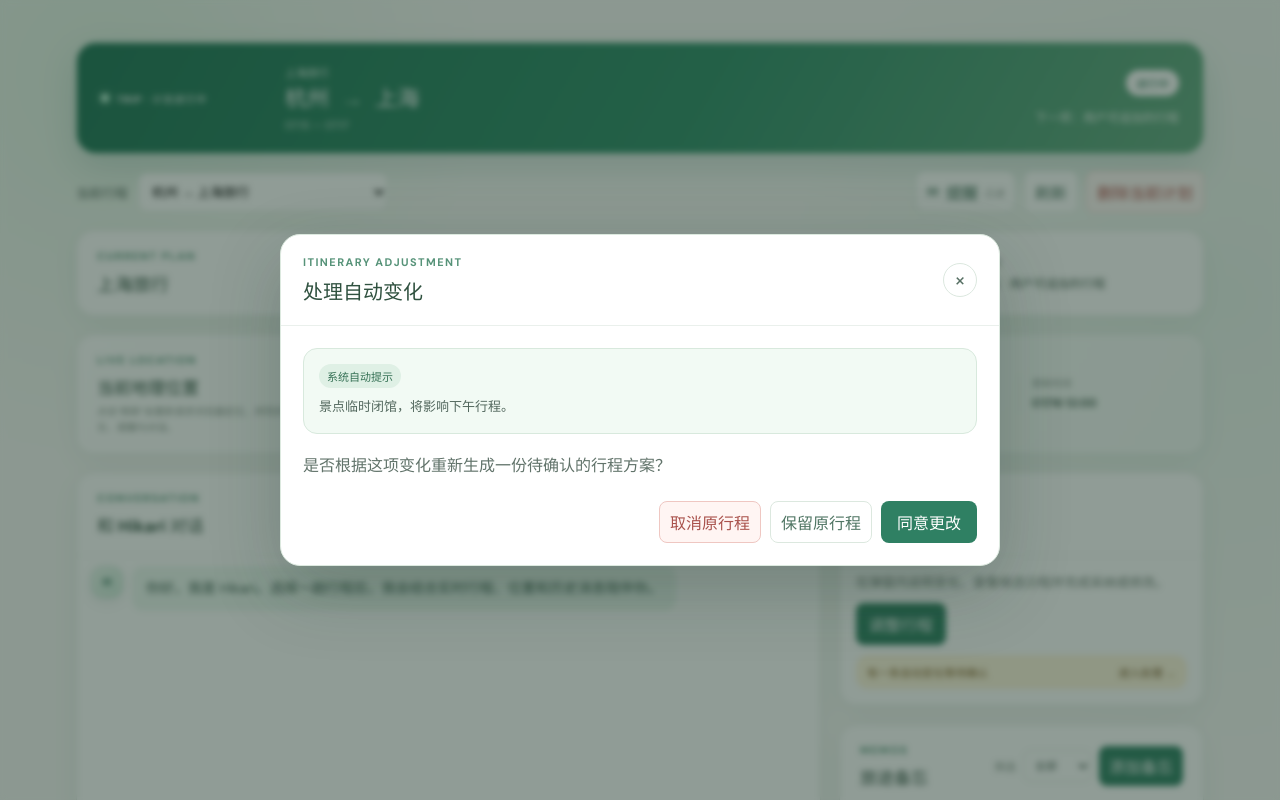
Test case: Companion adjustment dialog › locks automatically detected conflicts but allows extra selections
The image size is (1280, 800).
What coordinates should you click on to do the following:
click the button "同意更改"
I would click on:
 (929, 522)
Its box is x1=881 y1=501 x2=977 y2=543.
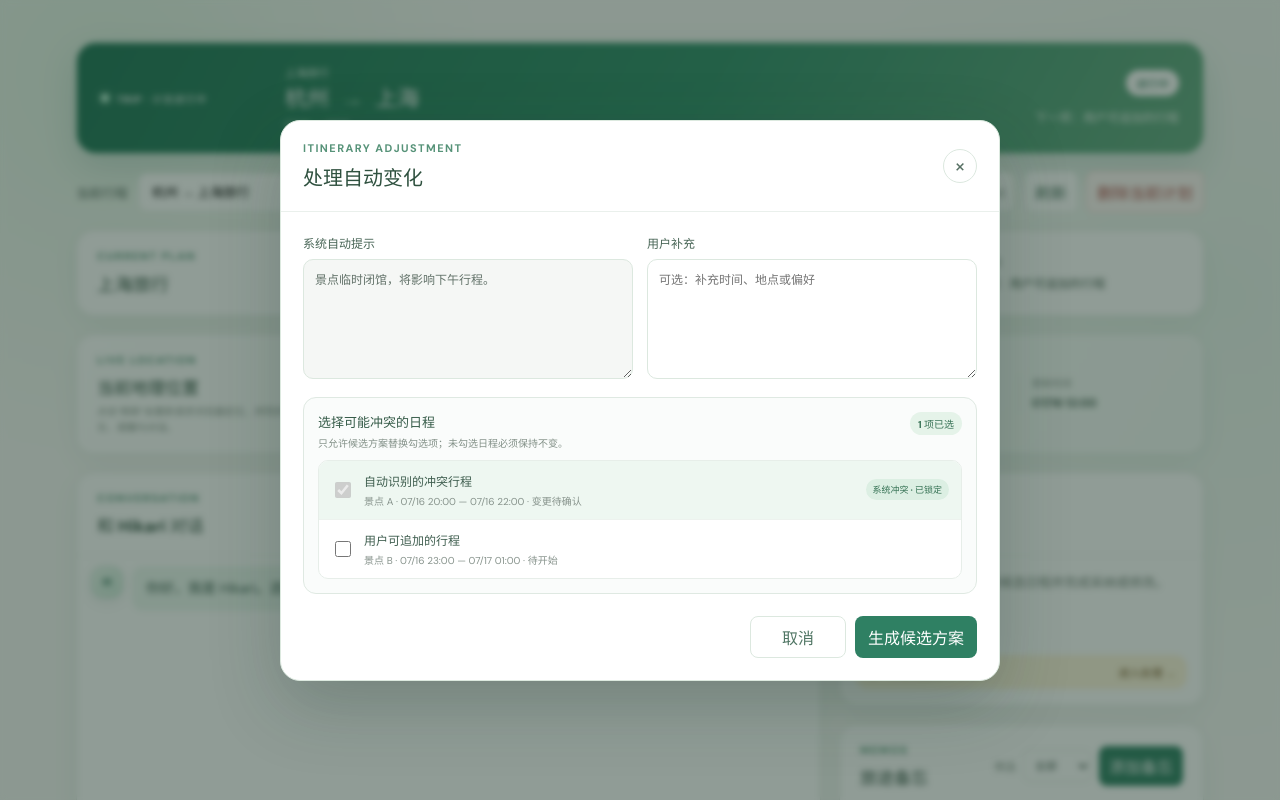
Expected: the number of checkboxes is 2, x1=335 y1=482 x2=351 y2=498; x1=335 y1=540 x2=351 y2=556
Expected: the 1st checkbox is checked, x1=335 y1=482 x2=351 y2=498
Expected: the 1st checkbox is disabled, x1=335 y1=482 x2=351 y2=498
